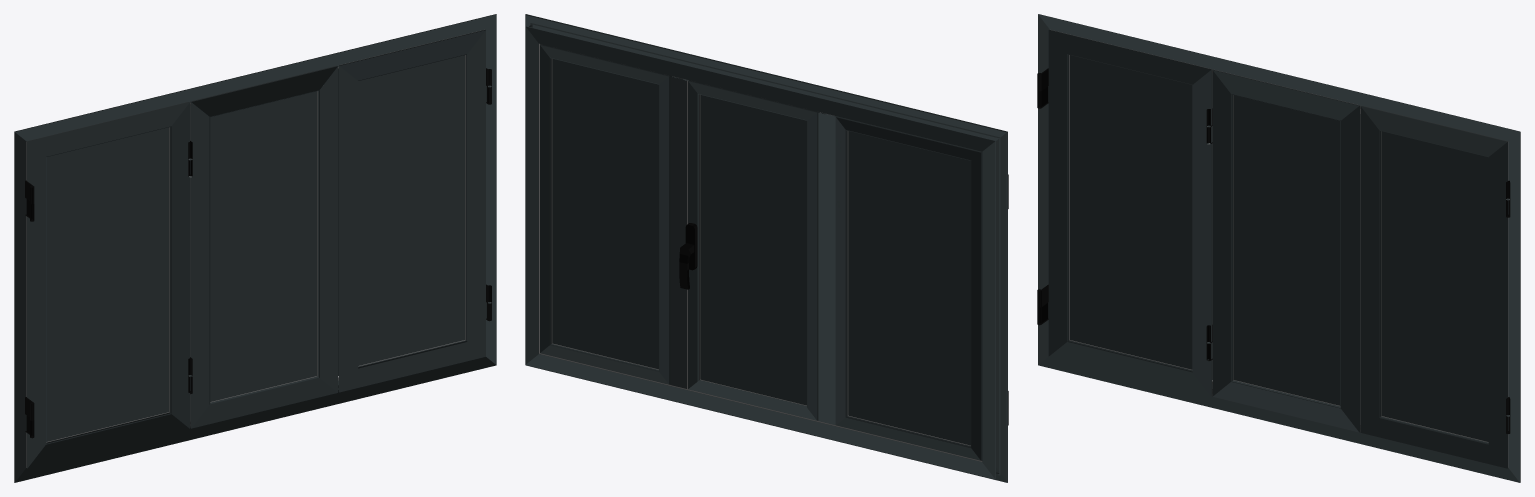
3 renders of one model, left to right at view 1: azimuth 30°, elevation 25°; view 2: azimuth 150°, elevation 25°; view 3: azimuth 330°, elevation 25°, orthographic.
Visible parts, largest first — view 1: ouvrant, painel_1, painel, painel_2, 3folhas, ouvrant_1; view 2: painel_1, 3folhas, painel, painel_2, ouvrant, ouvrant_1, muleta; view 3: ouvrant, painel_1, painel_2, painel, 3folhas, ouvrant_1.
Part boxes in pixels (left/top/right/bottom): ouvrant: left=25, top=66, right=337, bottom=468; painel_1: left=46, top=127, right=169, bottom=442; painel: left=210, top=91, right=317, bottom=402; painel_2: left=358, top=55, right=465, bottom=366; 3folhas: left=14, top=14, right=496, bottom=482; ouvrant_1: left=338, top=29, right=491, bottom=392; painel_1: left=847, top=131, right=970, bottom=445; 3folhas: left=525, top=14, right=1008, bottom=482; painel: left=699, top=94, right=806, bottom=405; painel_2: left=551, top=58, right=658, bottom=369; ouvrant: left=687, top=80, right=1008, bottom=460; ouvrant_1: left=540, top=44, right=687, bottom=388; muleta: left=679, top=243, right=694, bottom=289; ouvrant: left=1037, top=29, right=1360, bottom=432; painel_1: left=1069, top=55, right=1192, bottom=370; painel_2: left=1381, top=131, right=1488, bottom=442; painel: left=1233, top=95, right=1340, bottom=406; 3folhas: left=1037, top=14, right=1520, bottom=482; ouvrant_1: left=1360, top=106, right=1510, bottom=468.
Size of the model in its own units: 152 by 105 by 13.71.
1 material, 1 textured.
